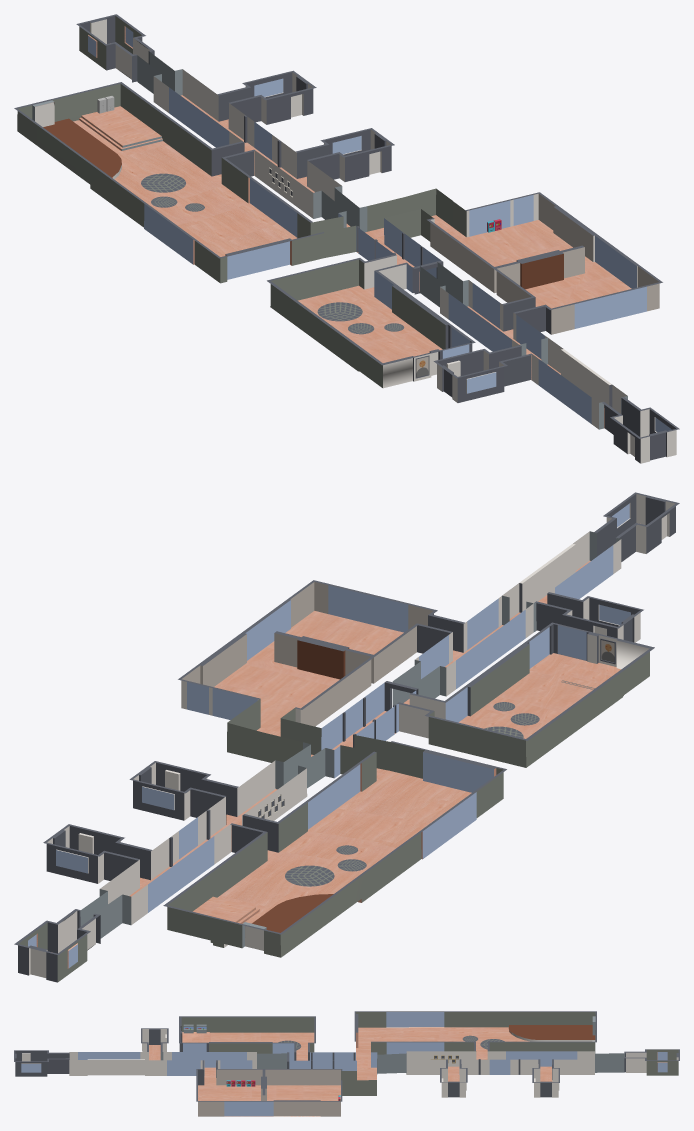
File: Map6_Final.fbx
The picture shows the model from 3 angles, top to bottom: view 1: azimuth 30°, elevation 25°; view 2: azimuth 150°, elevation 25°; view 3: azimuth 270°, elevation 25°; orthographic projection. The views are drawn at different scales.
Parts seen in each view (by area): view 1: polySurface18, polySurface11, Room_1_Floor_1_6, Room_2_Floor_3, pasted__pasted__Room_1_Floor_3, pasted__pasted__pasted__Room_1_Floor_3, pasted__Room_1_Floor_3, pasted__pasted__Room_1_Floor_4, polySurface12; view 2: polySurface18, polySurface11, Room_1_Floor_1_6, Room_2_Floor_3, pasted__Room_1_Floor_3, pasted__pasted__pasted__Room_1_Floor_3, polySurface12, pasted__pasted__Room_1_Floor_4, pasted__pasted__Room_1_Floor_3; view 3: polySurface11, polySurface18, Room_1_Floor_1_6, Room_2_Floor_3, pasted__pasted__Room_1_Floor_4, polySurface12, pasted__pasted__pasted__Room_1_Floor_3, pasted__Room_1_Floor_3, pasted__pasted__Room_1_Floor_3.
Part boxes in pixels (left/top/right/bottom): polySurface18: left=14, top=82, right=356, bottom=283; polySurface11: left=137, top=52, right=627, bottom=429; Room_1_Floor_1_6: left=421, top=192, right=662, bottom=338; Room_2_Floor_3: left=267, top=254, right=475, bottom=388; pasted__pasted__Room_1_Floor_3: left=433, top=345, right=532, bottom=402; pasted__pasted__pasted__Room_1_Floor_3: left=217, top=70, right=316, bottom=128; pasted__Room_1_Floor_3: left=296, top=128, right=394, bottom=185; pasted__pasted__Room_1_Floor_4: left=602, top=397, right=679, bottom=463; polySurface12: left=76, top=14, right=154, bottom=82; polySurface18: left=163, top=735, right=506, bottom=957; polySurface11: left=80, top=531, right=621, bottom=938; Room_1_Floor_1_6: left=178, top=580, right=464, bottom=736; Room_2_Floor_3: left=397, top=622, right=654, bottom=767; pasted__Room_1_Floor_3: left=129, top=761, right=238, bottom=824; pasted__pasted__pasted__Room_1_Floor_3: left=43, top=824, right=152, bottom=887; polySurface12: left=14, top=909, right=100, bottom=982; pasted__pasted__Room_1_Floor_4: left=594, top=492, right=679, bottom=561; pasted__pasted__Room_1_Floor_3: left=535, top=592, right=643, bottom=642; polySurface11: left=69, top=1051, right=624, bottom=1095; polySurface18: left=354, top=1011, right=596, bottom=1067; Room_1_Floor_1_6: left=196, top=1060, right=356, bottom=1116; Room_2_Floor_3: left=179, top=1016, right=315, bottom=1060; pasted__pasted__Room_1_Floor_4: left=14, top=1050, right=69, bottom=1076; polySurface12: left=624, top=1049, right=679, bottom=1075; pasted__pasted__pasted__Room_1_Floor_3: left=532, top=1059, right=559, bottom=1097; pasted__Room_1_Floor_3: left=440, top=1059, right=467, bottom=1097; pasted__pasted__Room_1_Floor_3: left=141, top=1028, right=168, bottom=1060.
Bounding box in the file's own units: 370 × 32.81 × 1166.
Materials: 1 (1 with a texture image).
